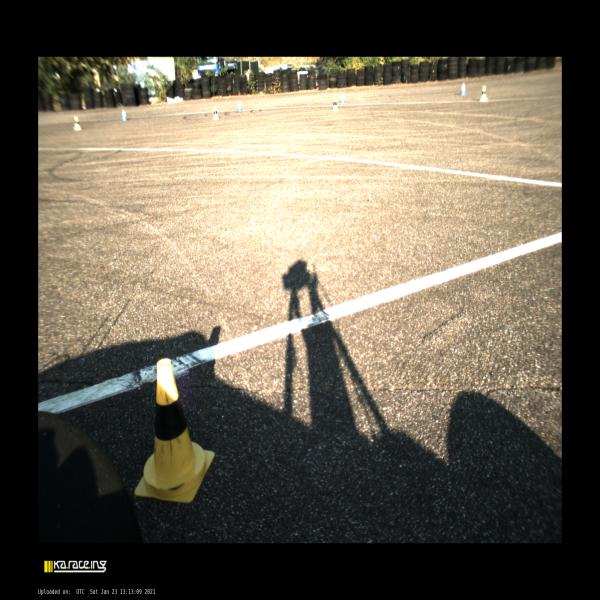blue_cone: (459, 82, 466, 96), (121, 108, 128, 121), (339, 91, 346, 104), (235, 100, 242, 112)
yellow_cone: (134, 357, 215, 505), (479, 85, 488, 102), (73, 115, 82, 130), (212, 105, 219, 120), (332, 97, 338, 111)
